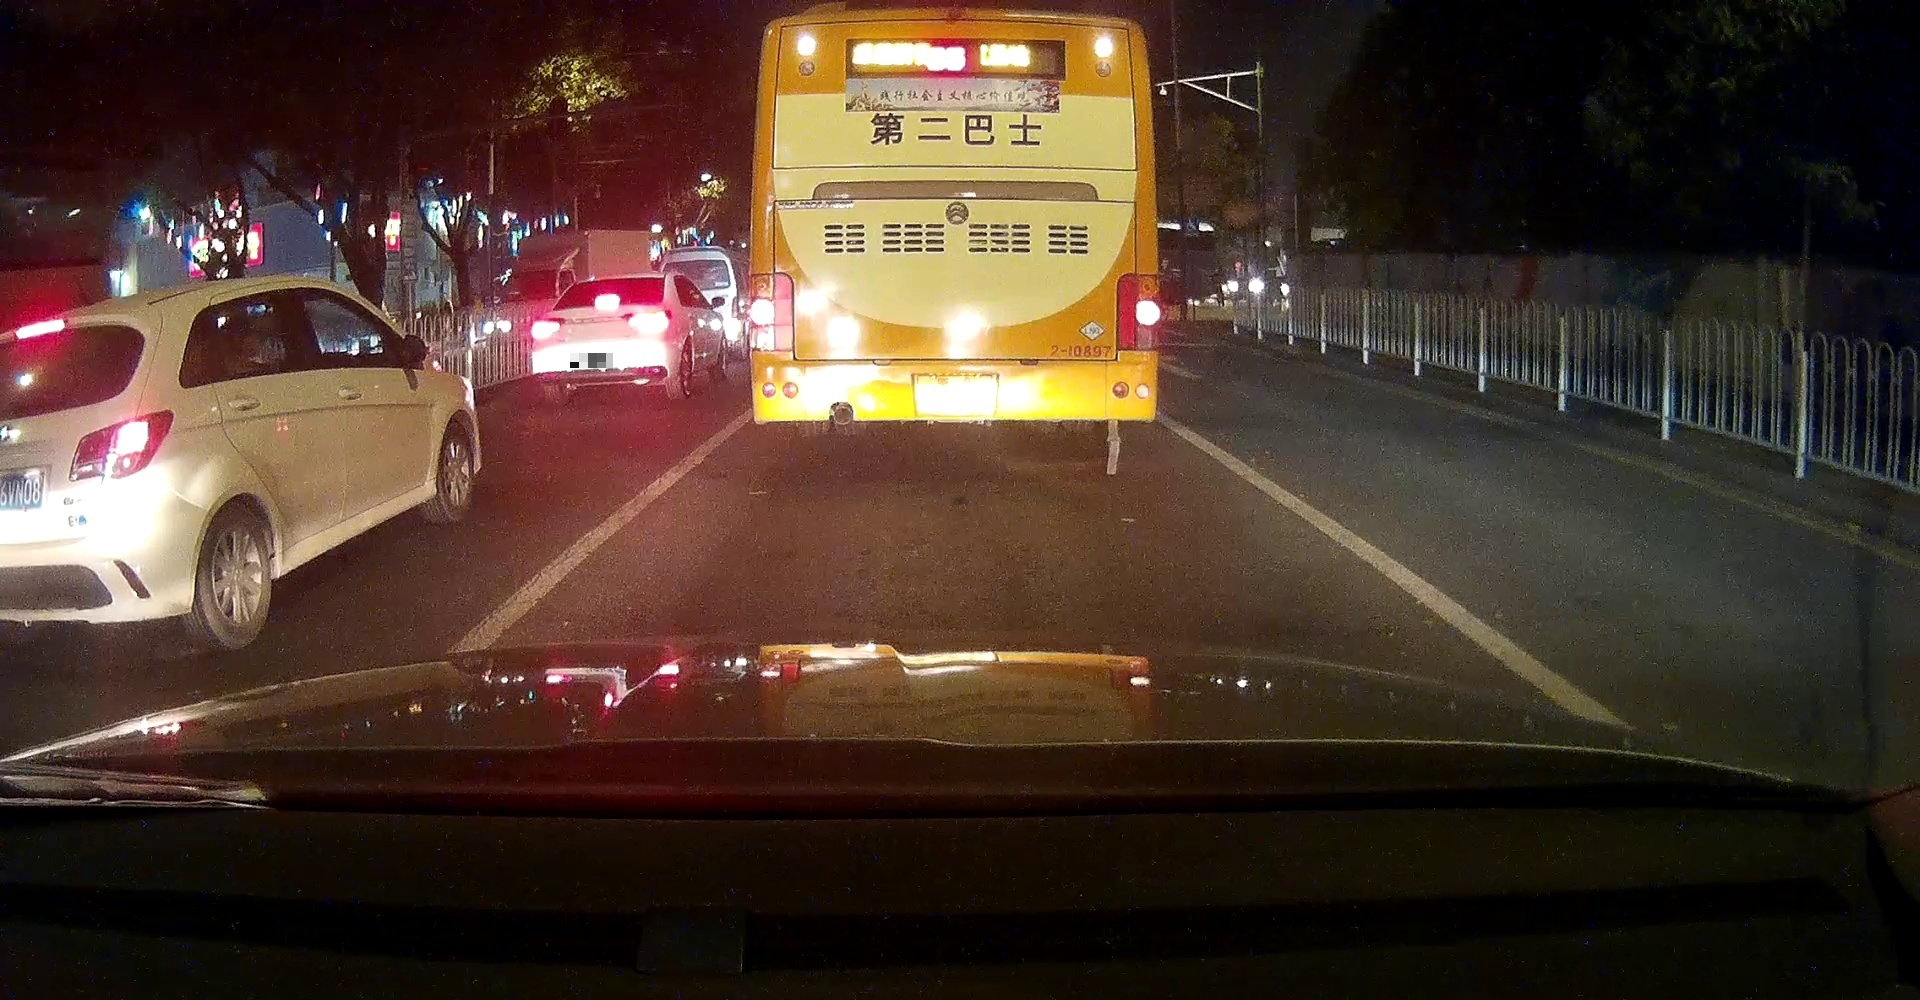L_light: (747, 272, 796, 353), (528, 316, 565, 339)
R_light: (1112, 273, 1163, 350), (622, 310, 672, 335)
T_light: (935, 16, 979, 33), (594, 294, 620, 311)
night-brake: (528, 272, 687, 404)
night-no: (747, 4, 1164, 437)
plate_1: (570, 353, 613, 368)
